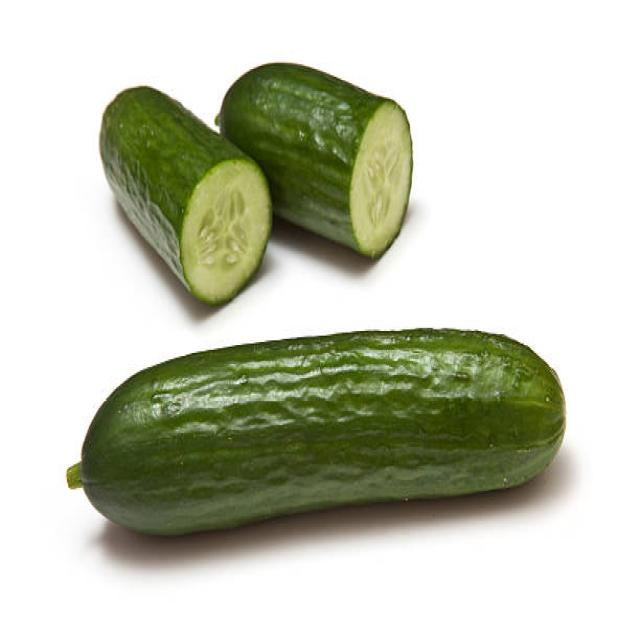cucumber: (82, 323, 568, 540)
